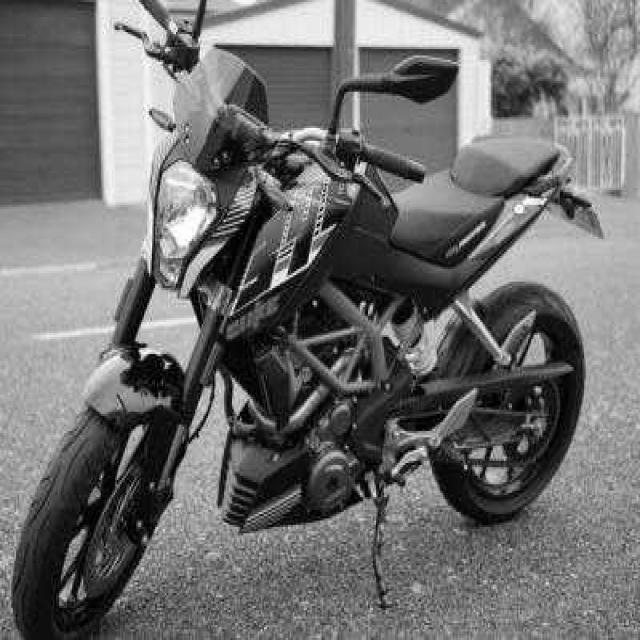Motorcycle: (12, 0, 585, 637)
